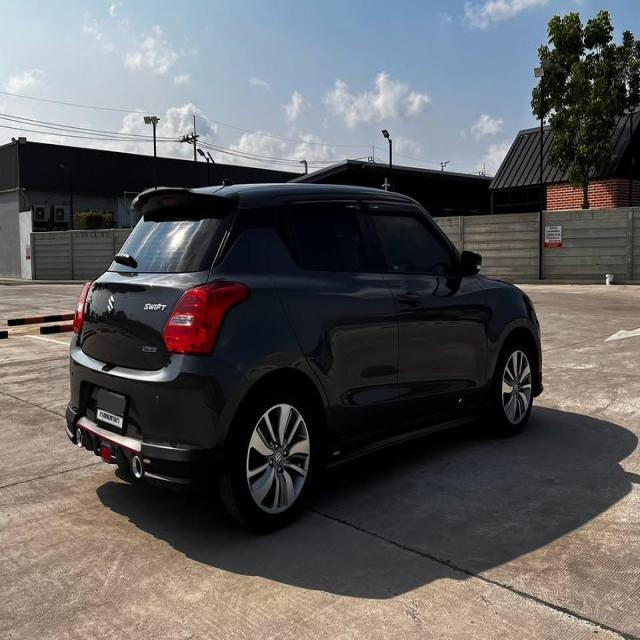Hatchback: (64, 182, 545, 536)
